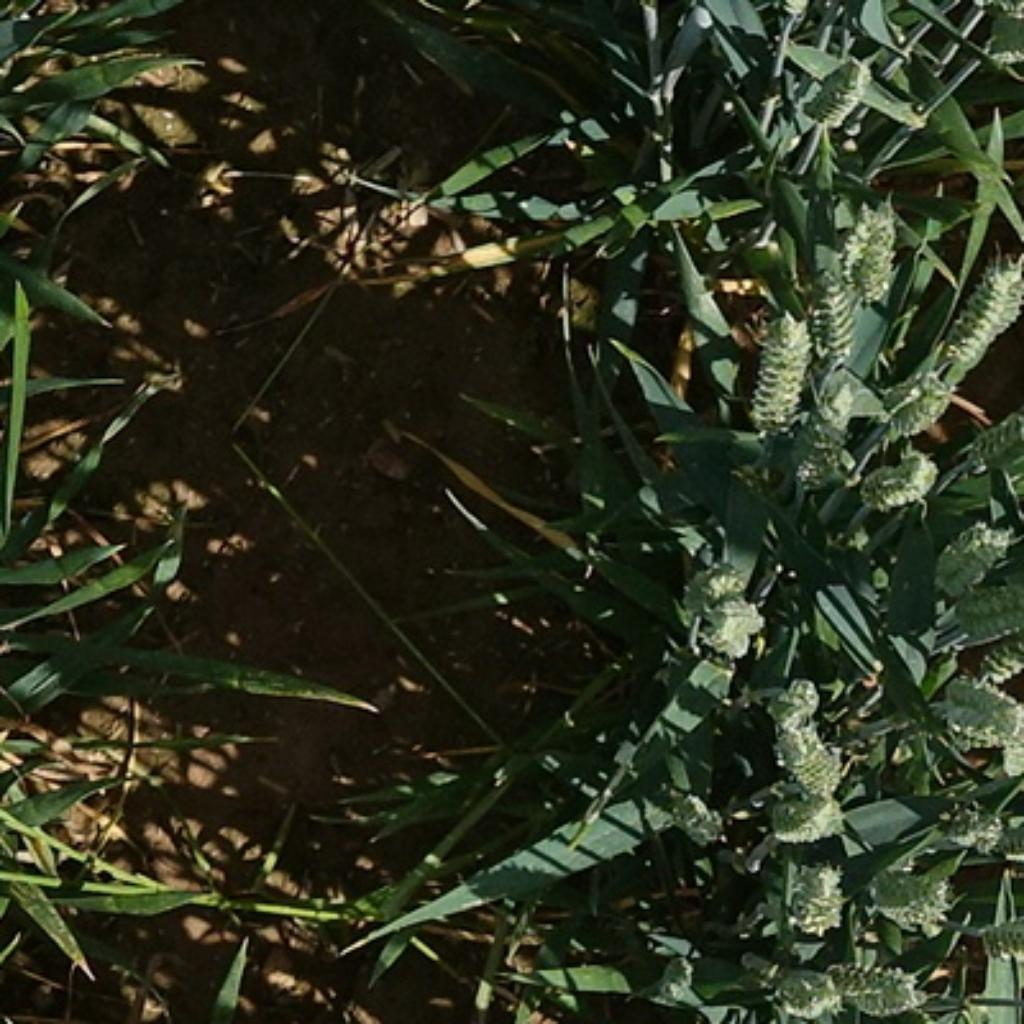0-0: (939, 250, 1024, 371), (742, 299, 816, 435), (824, 189, 903, 314), (780, 378, 857, 499), (796, 271, 878, 371), (773, 680, 841, 792), (870, 358, 954, 440), (865, 855, 957, 929), (765, 852, 847, 934), (929, 517, 1016, 588), (939, 568, 1024, 637), (757, 780, 847, 844), (645, 778, 727, 847), (855, 448, 942, 512), (945, 683, 1024, 750), (960, 399, 1024, 478), (944, 792, 1016, 861), (775, 962, 855, 1024), (675, 563, 757, 622), (834, 965, 920, 1020), (805, 55, 870, 127), (702, 597, 769, 662), (980, 913, 1024, 966), (986, 638, 1024, 689), (657, 957, 695, 1000)
